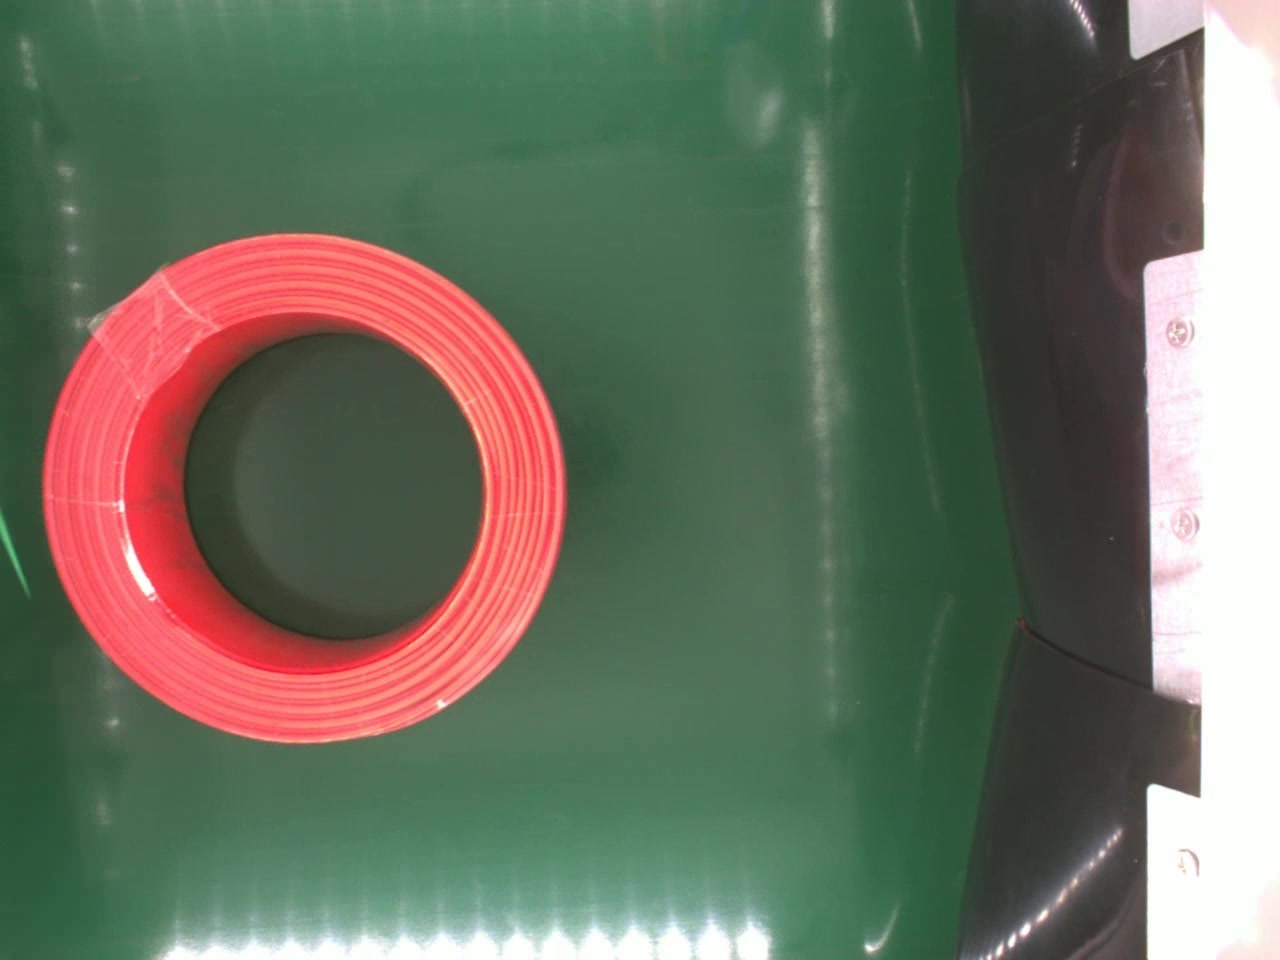red: (38, 227, 568, 750)
